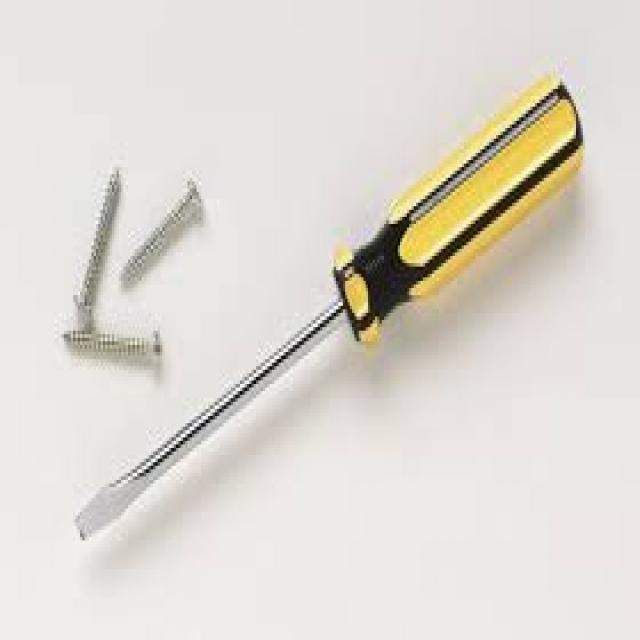screwdriver: (71, 69, 590, 546)
